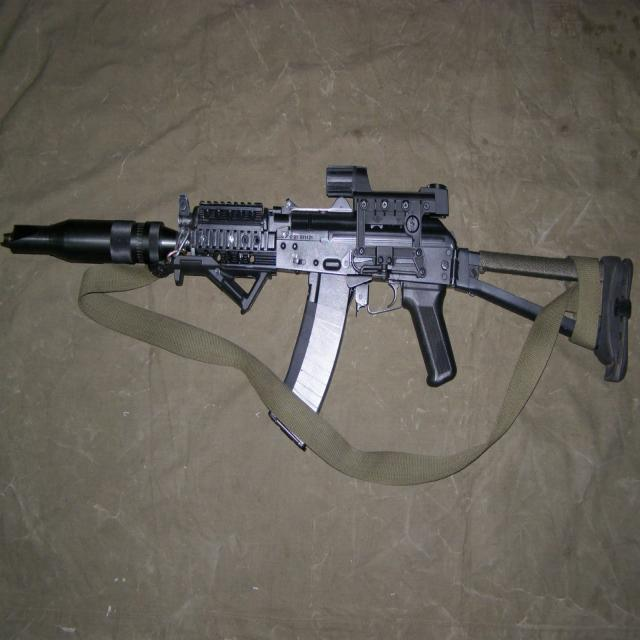firearm: (4, 165, 634, 448)
